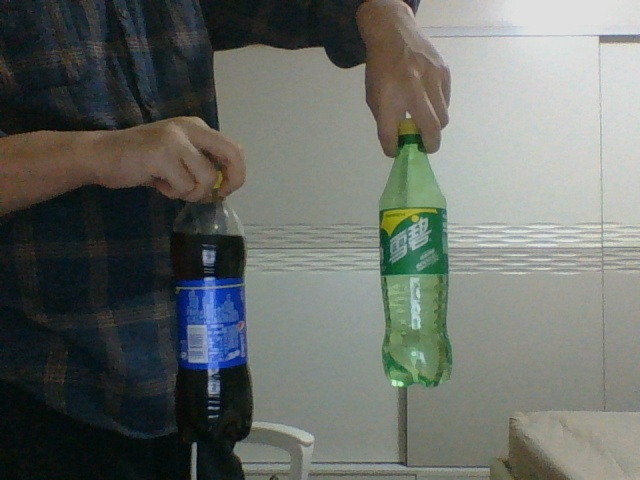Cola: (170, 174, 252, 446)
Sprite: (378, 118, 452, 388)
